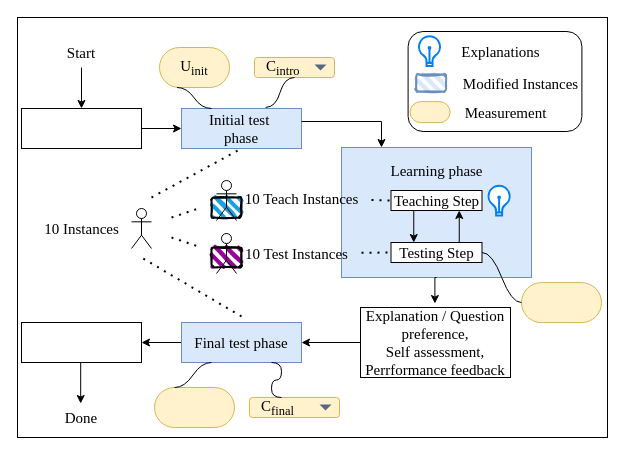
This 625x455 diagram has some shape labels left out. The box of each missing label's shape, as (x1, y1, x2, y2) in pixels:
Final Feedback: (20, 322, 142, 362)
Instructions: (20, 108, 142, 148)
U final: (154, 386, 234, 428)
U time: (520, 282, 602, 323)
